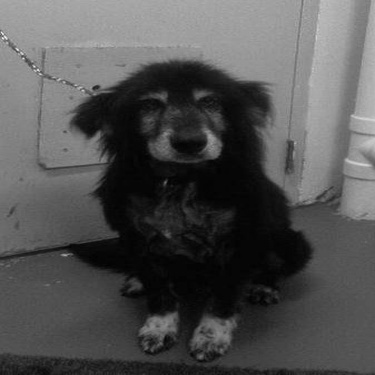dog: (60, 50, 316, 365)
